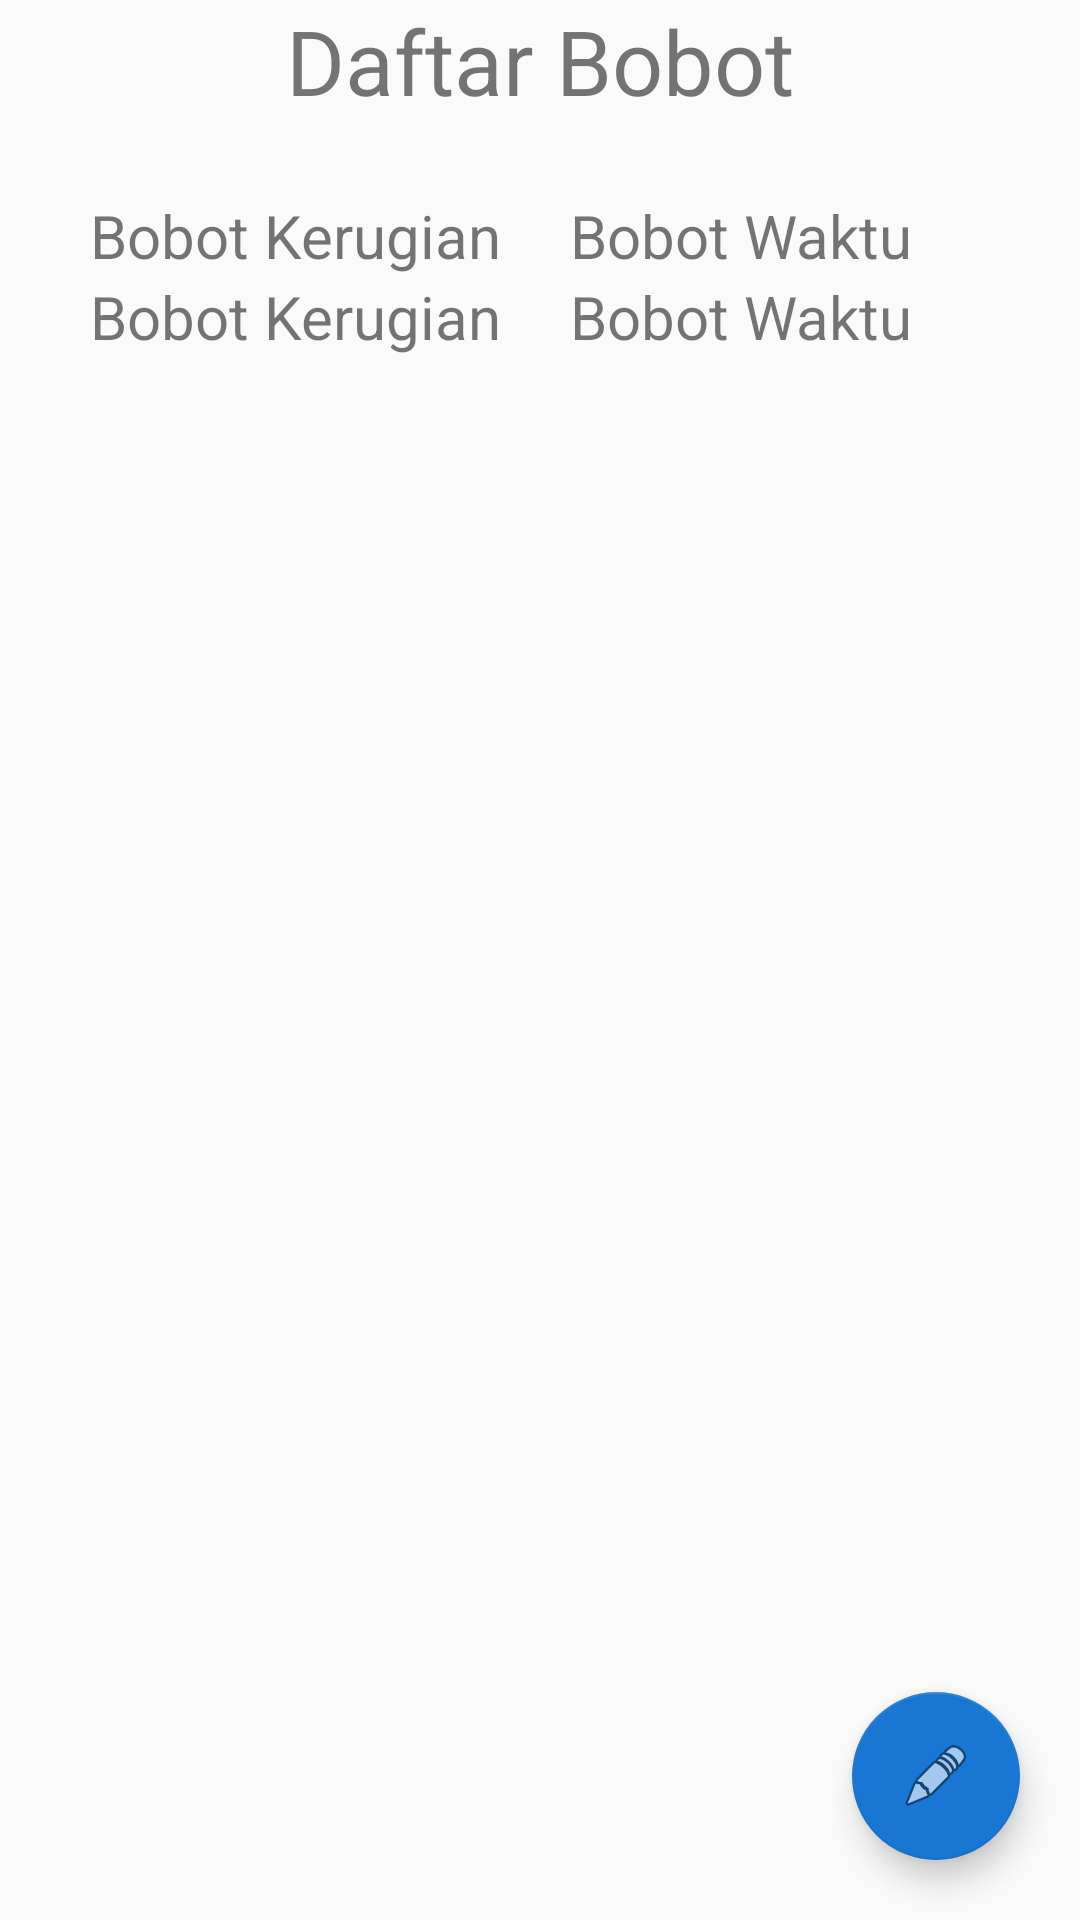

Icons on this 1080 × 1920 Android screen, each with the point to tap as (x=x, y=y):
edit: (x=936, y=1776)
